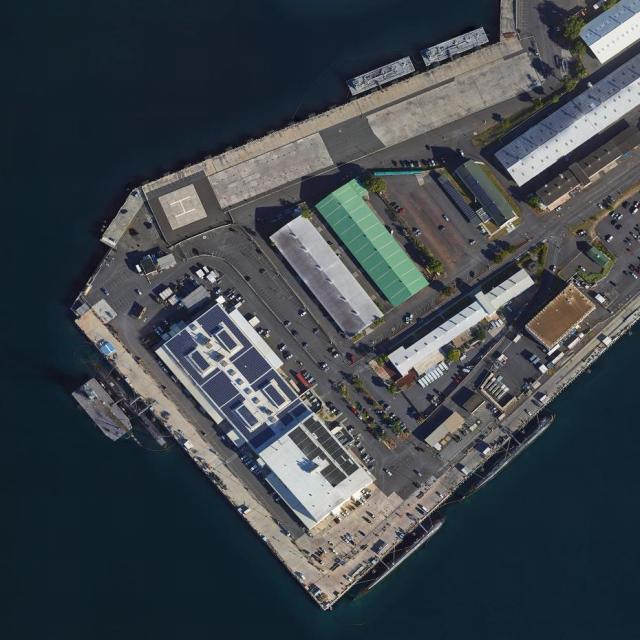Submarine: (350, 513, 449, 604), (83, 350, 170, 451), (461, 413, 556, 501)
